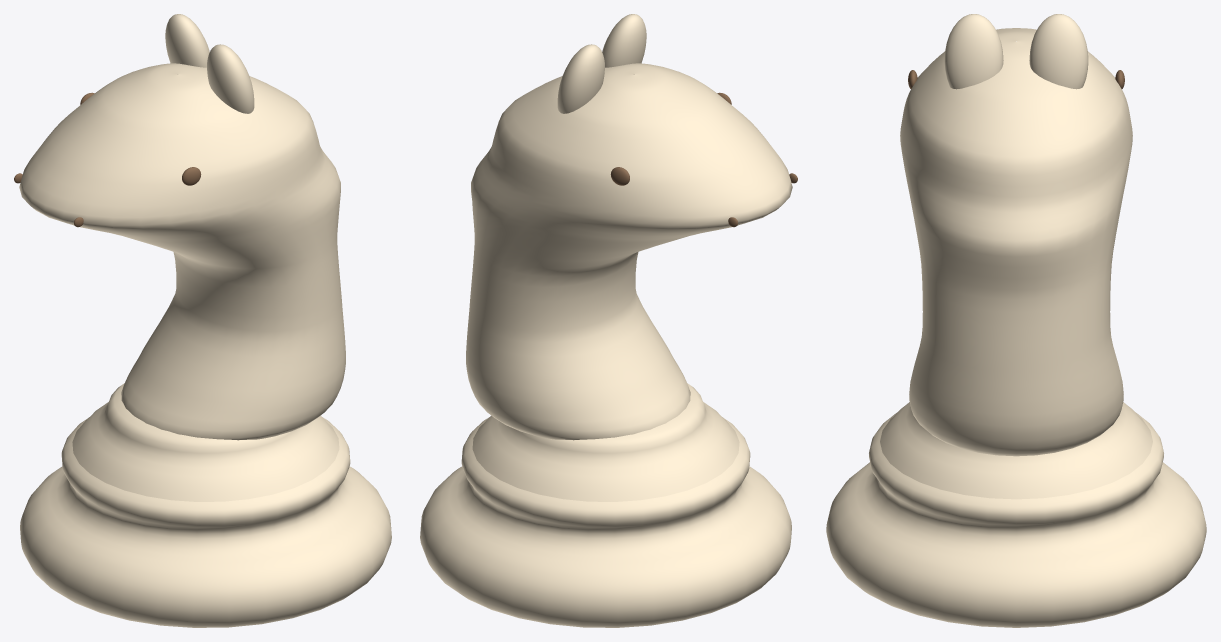
Rendered from knight.glb.
The picture shows the model from 3 angles, left to right: view 1: azimuth 30°, elevation 25°; view 2: azimuth 150°, elevation 25°; view 3: azimuth 270°, elevation 25°; orthographic projection. The views are drawn at different scales.
Visible parts, largest first — view 1: knight-ivory-porcelain, knight-detail; view 2: knight-ivory-porcelain, knight-detail; view 3: knight-ivory-porcelain.
Boxes of the visible parts, x1,y1,x2,y2 form: knight-ivory-porcelain: (19, 14, 391, 627); knight-detail: (14, 92, 201, 227); knight-ivory-porcelain: (420, 14, 792, 627); knight-detail: (610, 92, 797, 227); knight-ivory-porcelain: (826, 14, 1206, 627).
Bounding box in the file's own units: 0.6828 × 1.03 × 0.6542.
